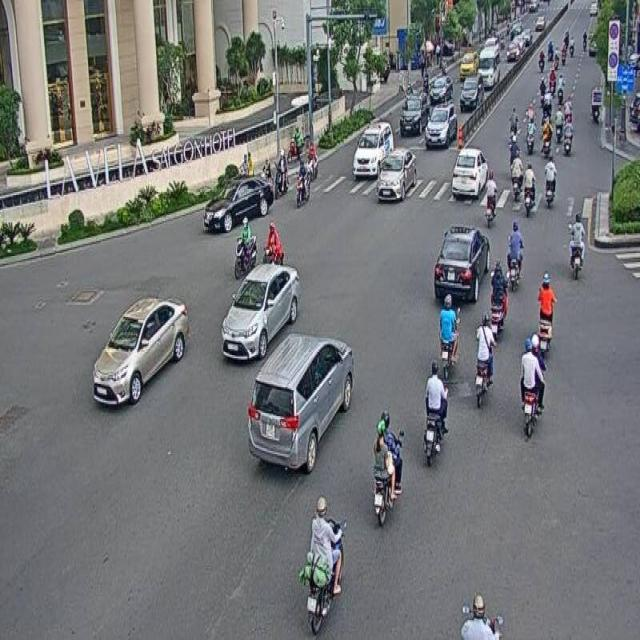car: (246, 326, 355, 480), (91, 298, 184, 412), (223, 259, 298, 363), (436, 222, 490, 312), (202, 175, 274, 232), (352, 120, 391, 178), (376, 146, 415, 203), (450, 145, 488, 198)
motorcycle: (299, 494, 339, 628), (370, 408, 400, 528), (421, 361, 447, 460), (472, 309, 496, 410), (519, 338, 544, 434), (438, 288, 462, 382), (488, 258, 510, 336), (536, 268, 555, 357), (234, 215, 256, 276), (507, 219, 525, 291), (568, 209, 585, 282), (362, 440, 363, 442)
